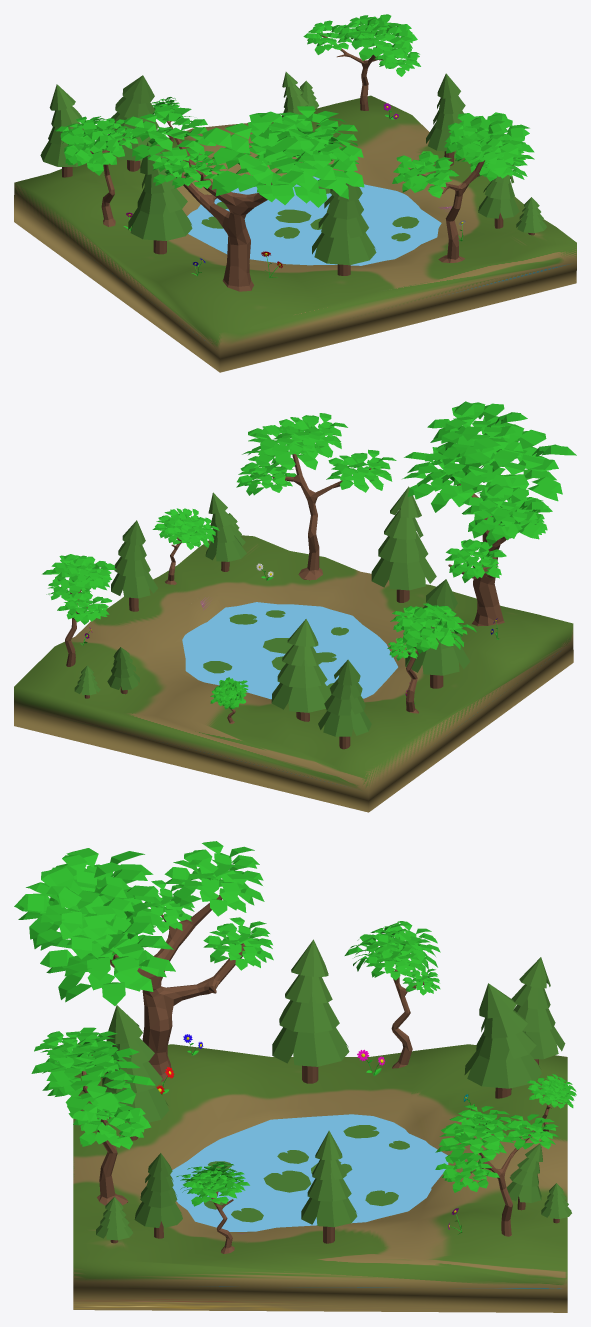
Rendered from project001.fbx.
3 views of the same model, one above another, from view 1: azimuth 30°, elevation 25°; view 2: azimuth 150°, elevation 25°; view 3: azimuth 270°, elevation 25° (orthographic). The views are drawn at different scales.
Parts seen in each view (by area): view 1: Cube; view 2: Cube; view 3: Cube.
Part boxes in pixels (<box>): Cube: <box>14,14,576,372</box>; Cube: <box>14,401,576,812</box>; Cube: <box>14,841,576,1312</box>.
Bounding box in the file's own units: 4074 × 2296 × 4188.
